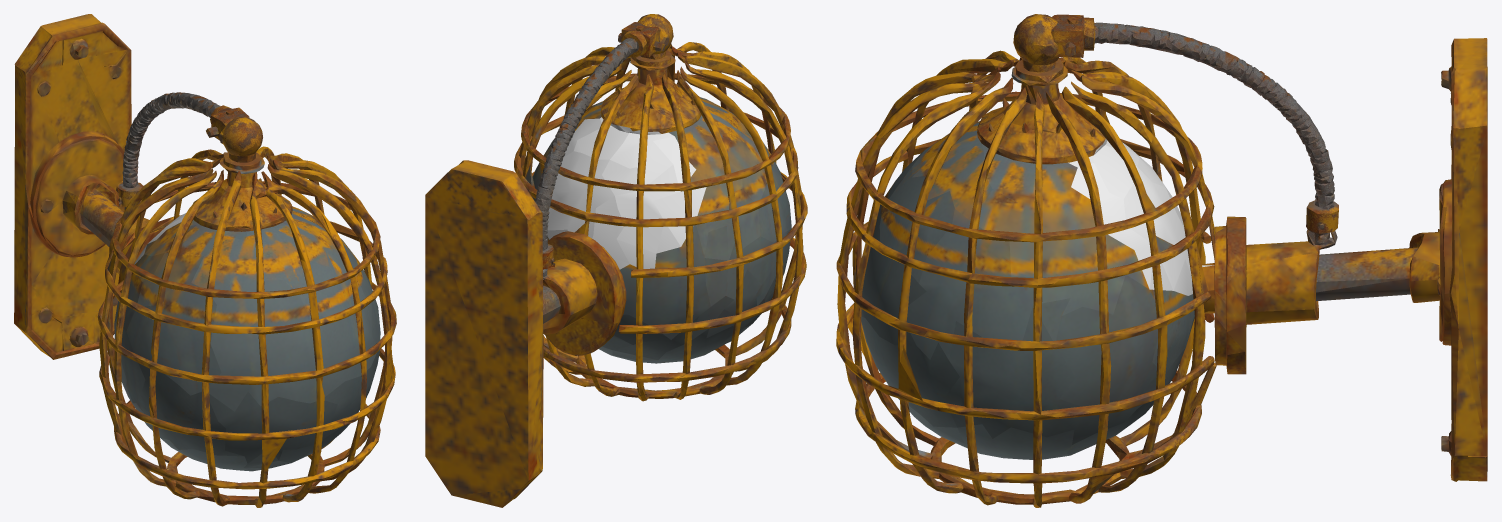
The model's file is lampada_gabbia.glb.
3 renders of one model, left to right at view 1: azimuth 30°, elevation 25°; view 2: azimuth 150°, elevation 25°; view 3: azimuth 270°, elevation 25°, orthographic. The views are drawn at different scales.
Parts seen in each view (by area): view 1: lampada; view 2: lampada, globo; view 3: lampada, globo.
Boxes of the visible parts, x1,y1,x2,y2 form: lampada: [14, 14, 396, 507]; lampada: [425, 14, 807, 507]; globo: [547, 117, 706, 269]; lampada: [836, 14, 1487, 507]; globo: [1068, 139, 1214, 295].
Size of the model in its own units: 0.3205 by 0.42 by 0.5495.
2 materials, 1 textured.
